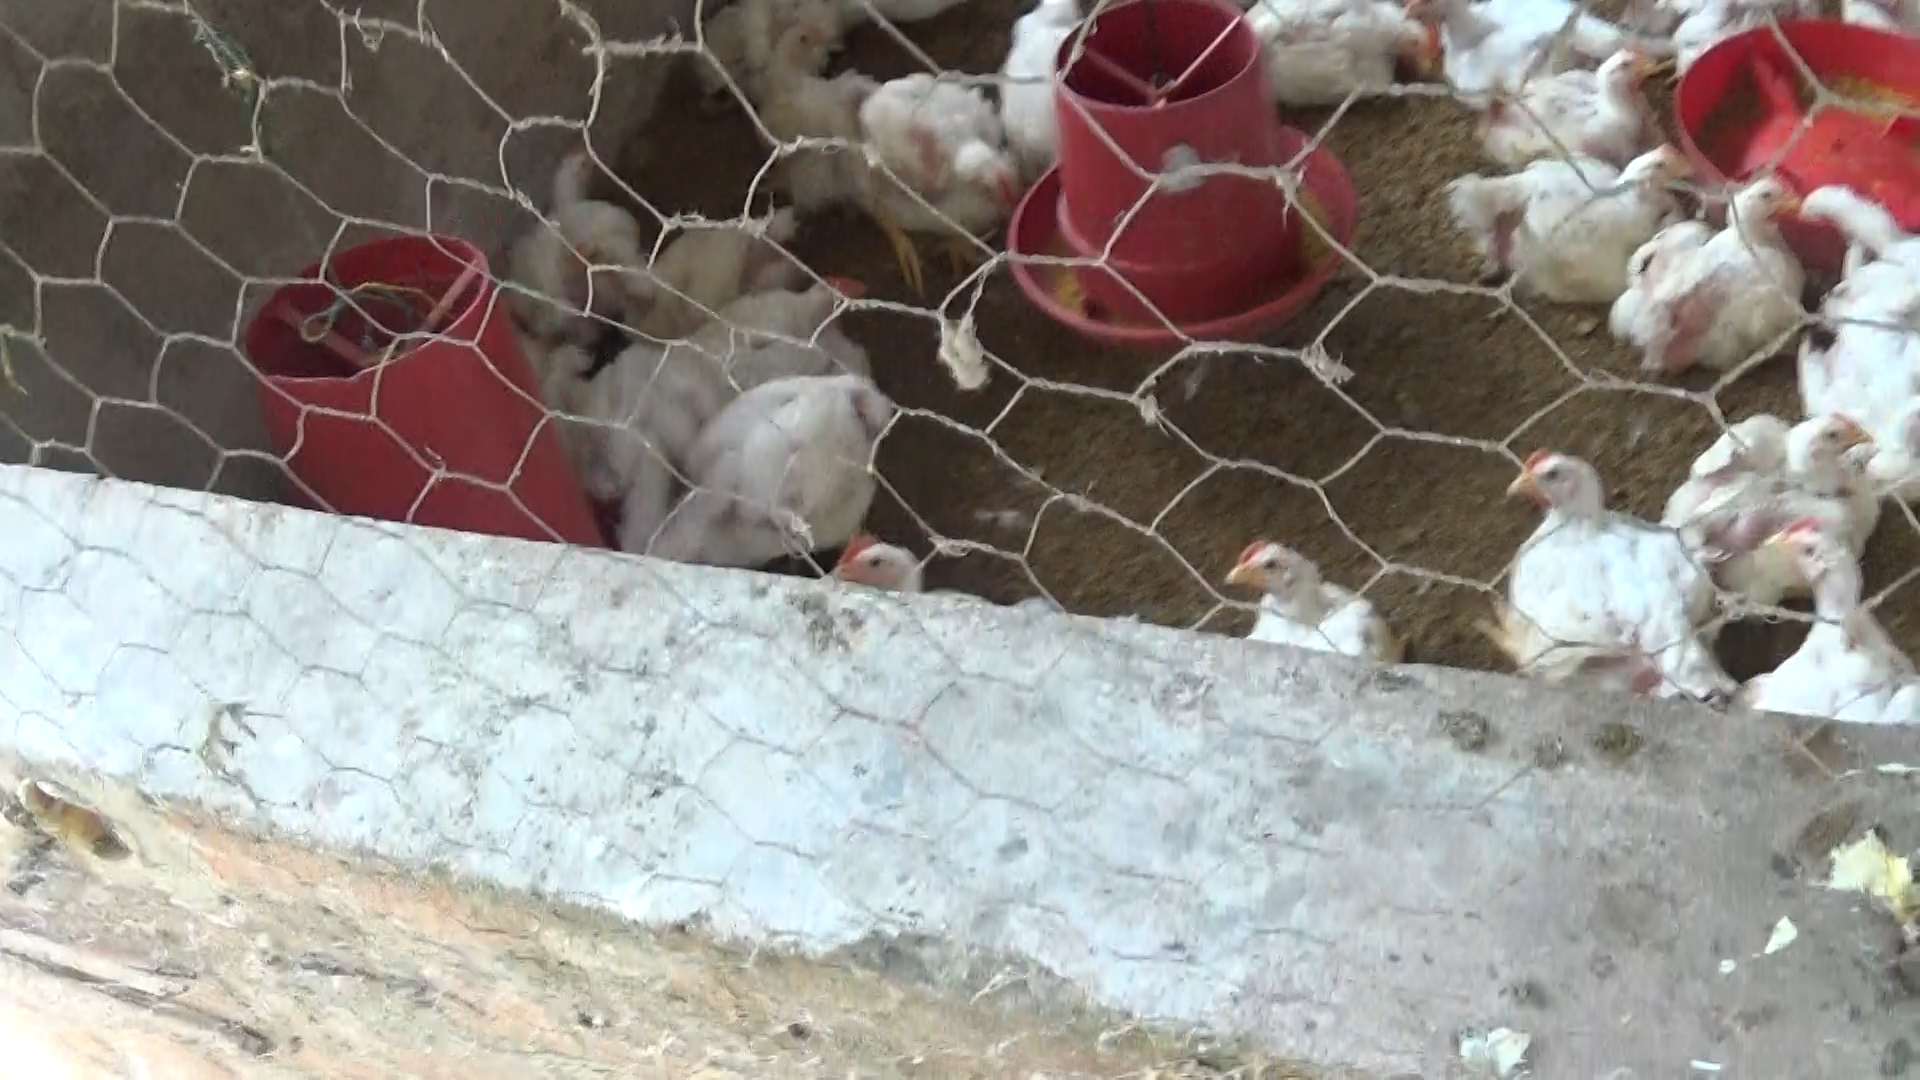Pollos: (1486, 436, 1721, 694), (655, 345, 924, 563), (1667, 404, 1882, 624), (1601, 166, 1803, 382), (861, 74, 1035, 295), (1762, 502, 1920, 731), (1803, 173, 1920, 477), (1456, 144, 1667, 309), (483, 138, 655, 336), (770, 11, 893, 225), (622, 187, 808, 328), (1240, 0, 1451, 121), (1484, 42, 1685, 160), (696, 258, 887, 378), (1228, 529, 1395, 659), (997, 0, 1105, 153), (825, 513, 938, 599)
